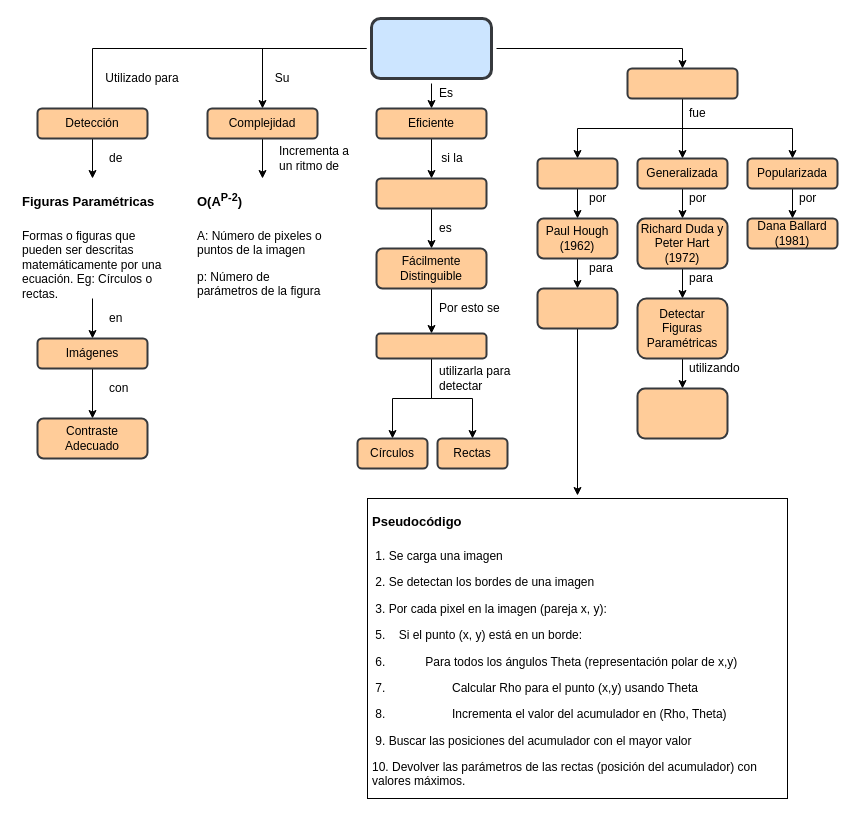
Image size: 855x816. Some labels were removed from this diagram. The shapes that lost their labels are listed below. From the top down, each one's centre as x and y in pixels, then its label:
At (x=431, y=48): "Transformación de Hough".
At (x=682, y=83): "Historia".
At (x=431, y=193): "Figura a Detectar".
At (x=577, y=173): "Creada".
At (x=577, y=308): "Detectar Rectas".
At (x=431, y=345): "Recomienda".
At (x=682, y=413): "Emparejamiento de Plantillas".
